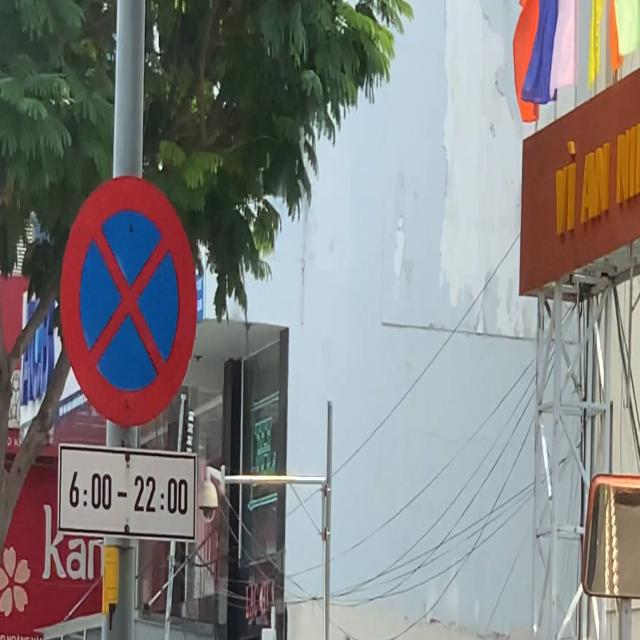Cam dung va do: (59, 174, 198, 428)
